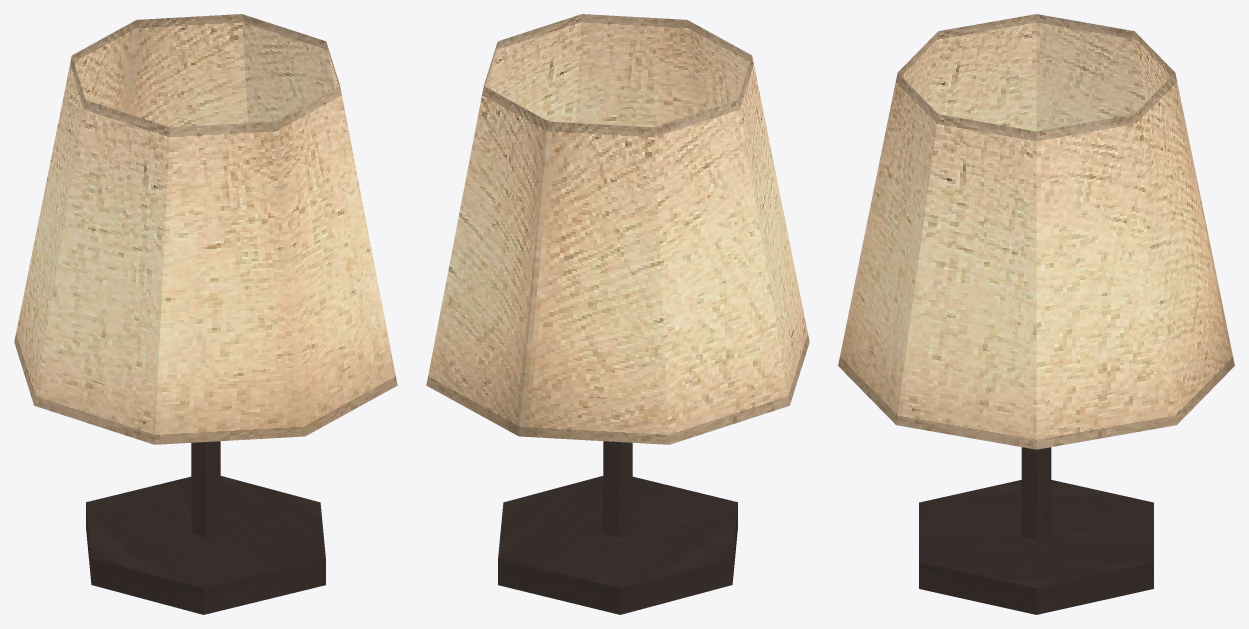
File: psx-table-lamp-bc1a97.glb
3 views of the same model, side by side, from view 1: azimuth 30°, elevation 25°; view 2: azimuth 150°, elevation 25°; view 3: azimuth 270°, elevation 25° (orthographic).
Visible parts, largest first — view 1: PropMesh; view 2: PropMesh; view 3: PropMesh.
Boxes of the visible parts, x1,y1,x2,y2 form: PropMesh: (14,14,397,614); PropMesh: (426,14,809,614); PropMesh: (838,14,1234,614).
Size of the model in its own units: 0.2959 by 0.4 by 0.2959.
Materials: 2 (2 with a texture image).
